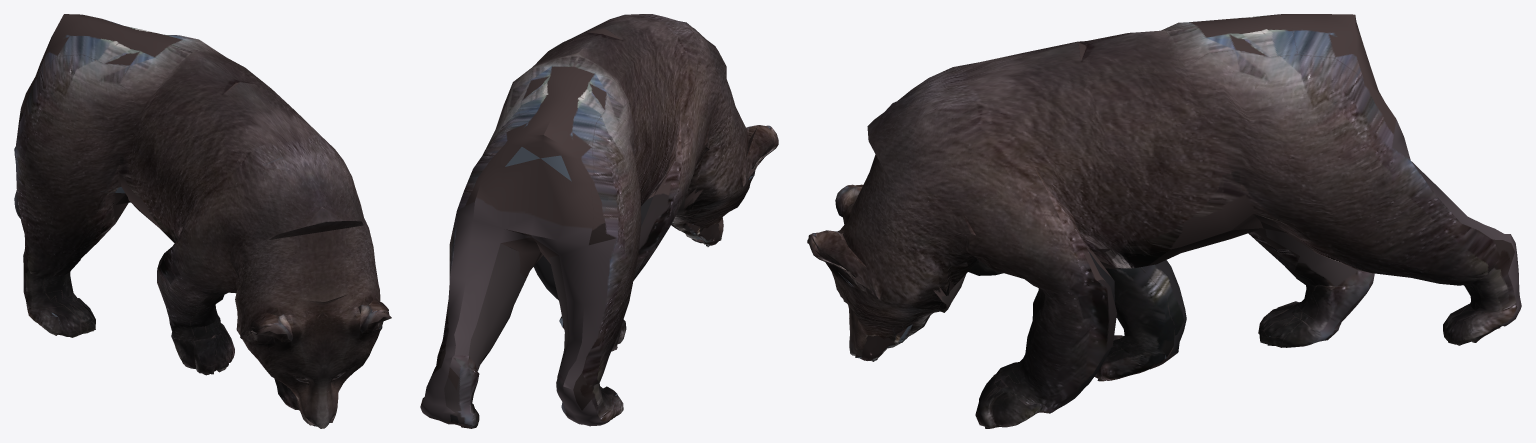
File: bear.glb
3 renders of one model, left to right at view 1: azimuth 30°, elevation 25°; view 2: azimuth 150°, elevation 25°; view 3: azimuth 270°, elevation 25°, orthographic. The views are drawn at different scales.
Visible parts, largest first — view 1: Mesh_0; view 2: Mesh_0; view 3: Mesh_0.
Part boxes in pixels (bbox=[...]): Mesh_0: bbox=[14, 14, 391, 428]; Mesh_0: bbox=[420, 14, 778, 428]; Mesh_0: bbox=[807, 14, 1521, 428].
Size of the model in its own units: 0.4065 by 0.6238 by 1.09.
1 material, 1 textured.
